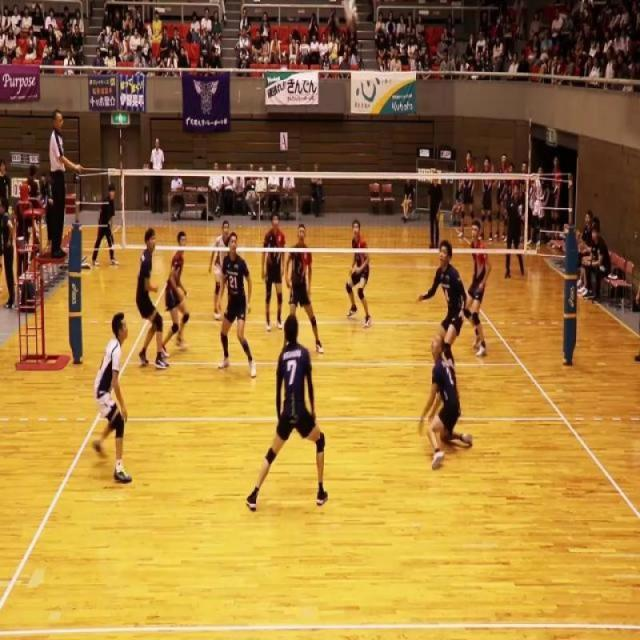volleyball: (341, 0, 360, 32)
